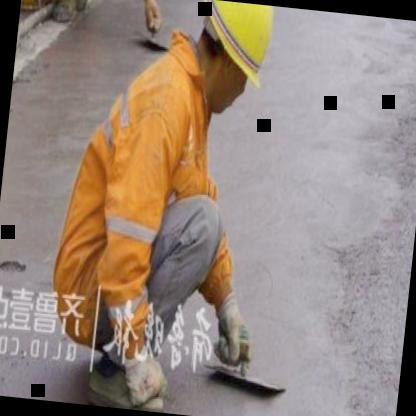helmet: (181, 0, 289, 126)
